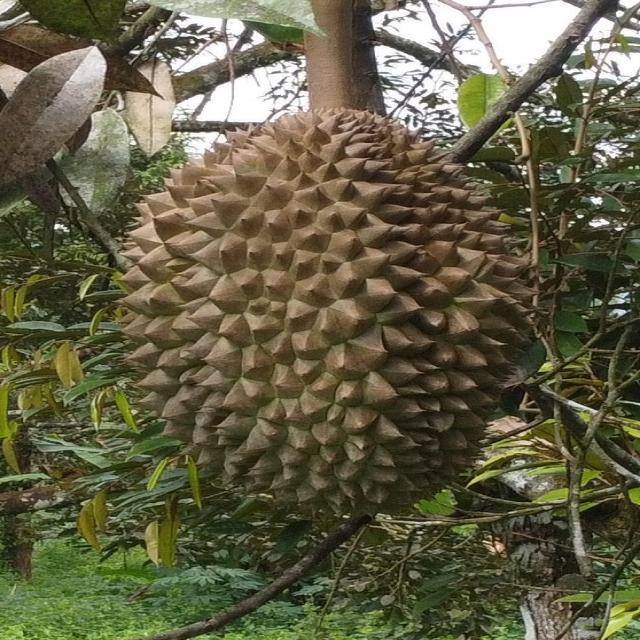mature: (122, 109, 534, 512)
